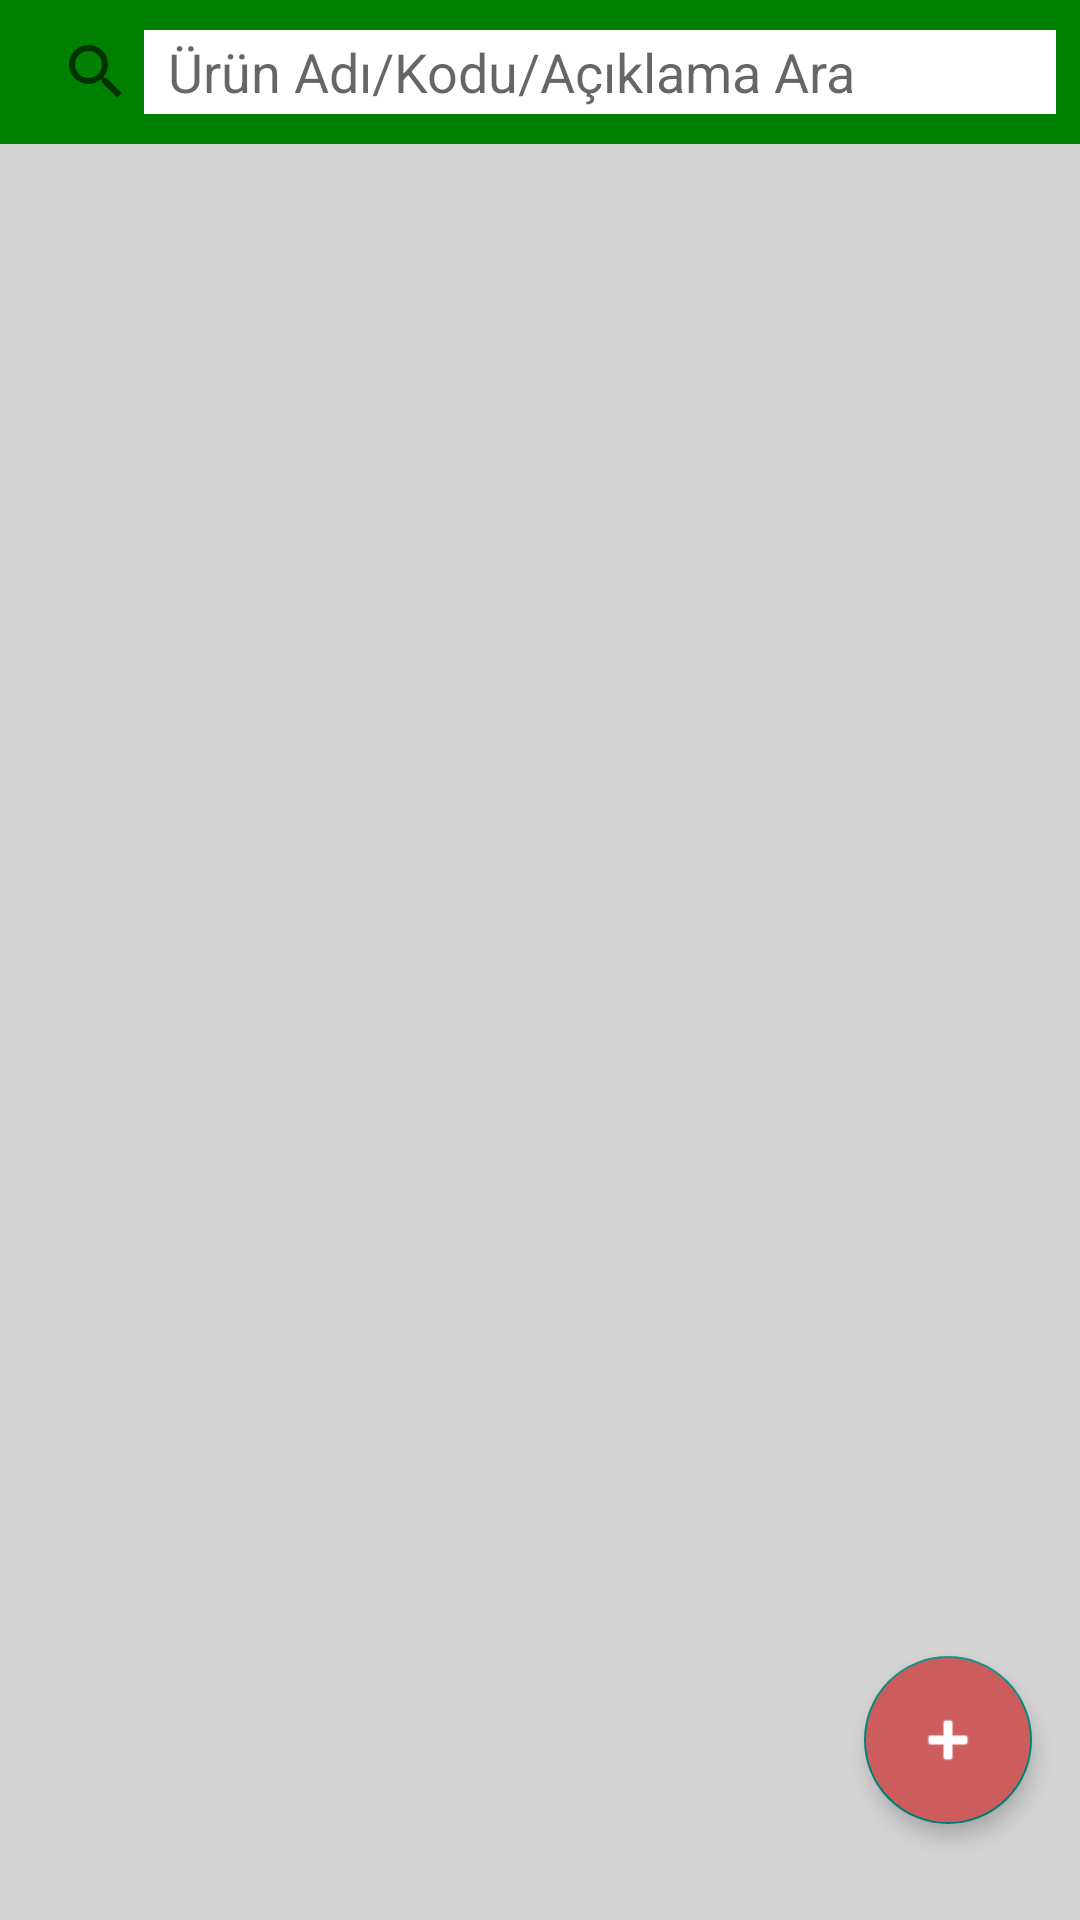

Locate icon controls on the screen. Image size 1080w x 1920h, boxes as (x1, y1, x2, y2).
add: (864, 1656, 1032, 1824)
